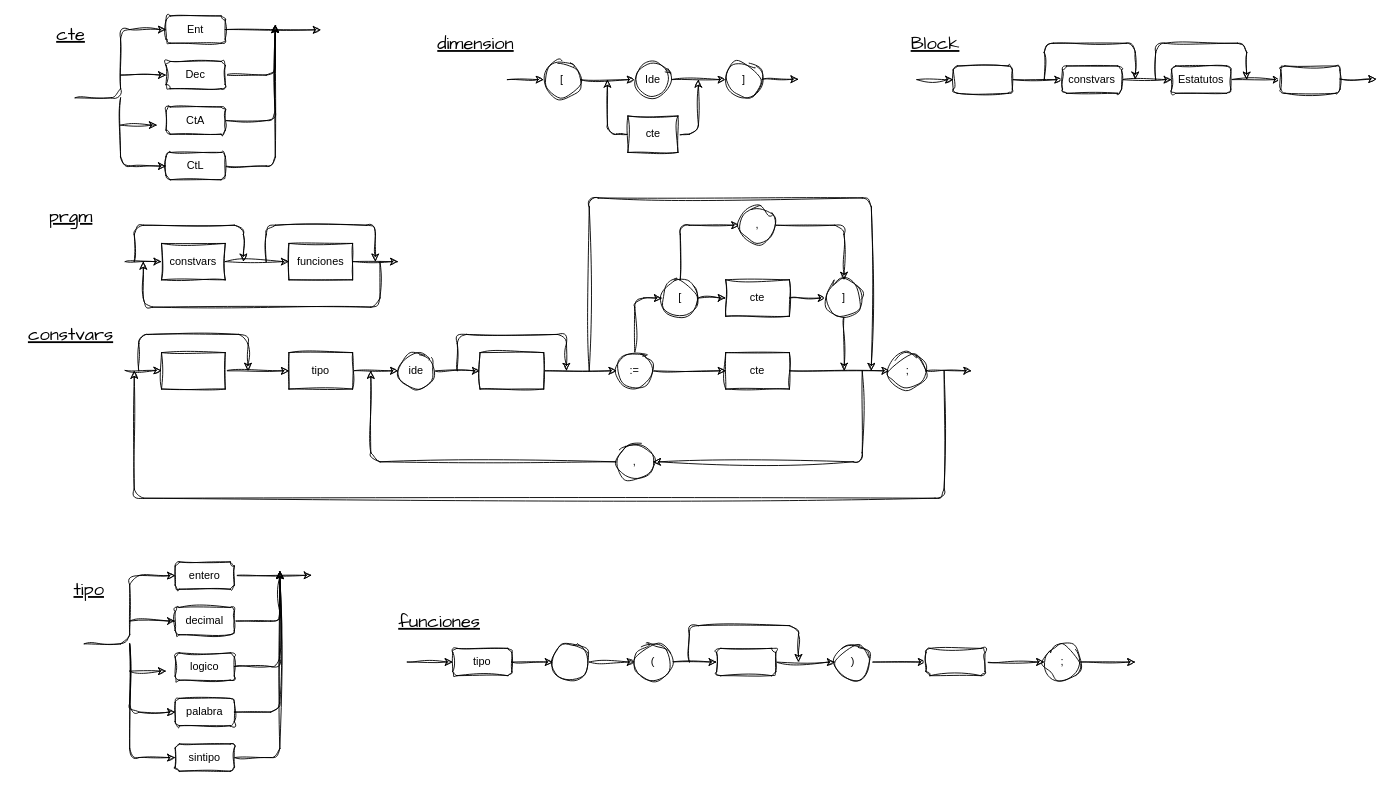
Image size: 1400x787. Some labels were removed from this diagram. The shapes that lost their labels are listed below. From the top down, each one's centre as x and y in pixels, then its label:
the point at 982,79: inicio
the point at 1310,79: fin
the point at 193,370: constante
the point at 511,370: dimen
the point at 570,661: Iden
the point at 746,661: params
the point at 955,661: bloque
